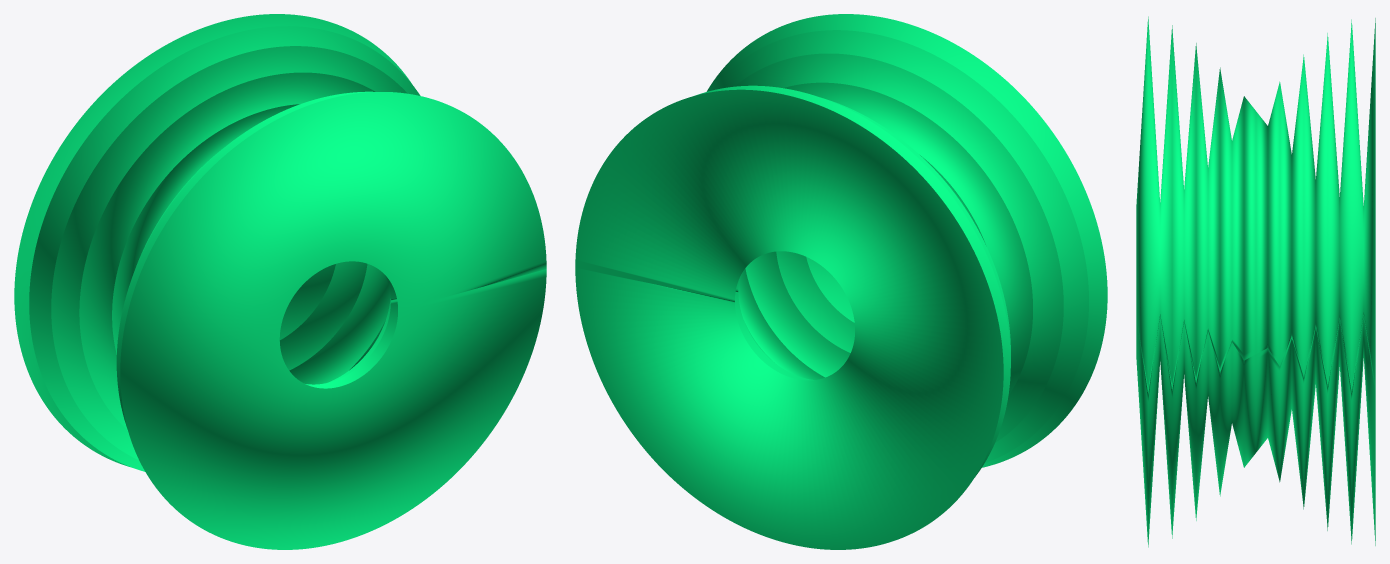
File: stefan_boltzmann_sigma_extended_sketchfab_animated_1764233952381.glb
3 views of the same model, side by side, from view 1: azimuth 30°, elevation 25°; view 2: azimuth 150°, elevation 25°; view 3: azimuth 270°, elevation 25° (orthographic). The views are drawn at different scales.
Parts seen in each view (by area): view 1: MathShape; view 2: MathShape; view 3: MathShape.
Part boxes in pixels (left/top/right/bottom): MathShape: left=14, top=14, right=546, bottom=549; MathShape: left=575, top=14, right=1107, bottom=549; MathShape: left=1136, top=16, right=1375, bottom=547.
Bounding box in the file's own units: 6.27 × 6.27 × 2.8.
